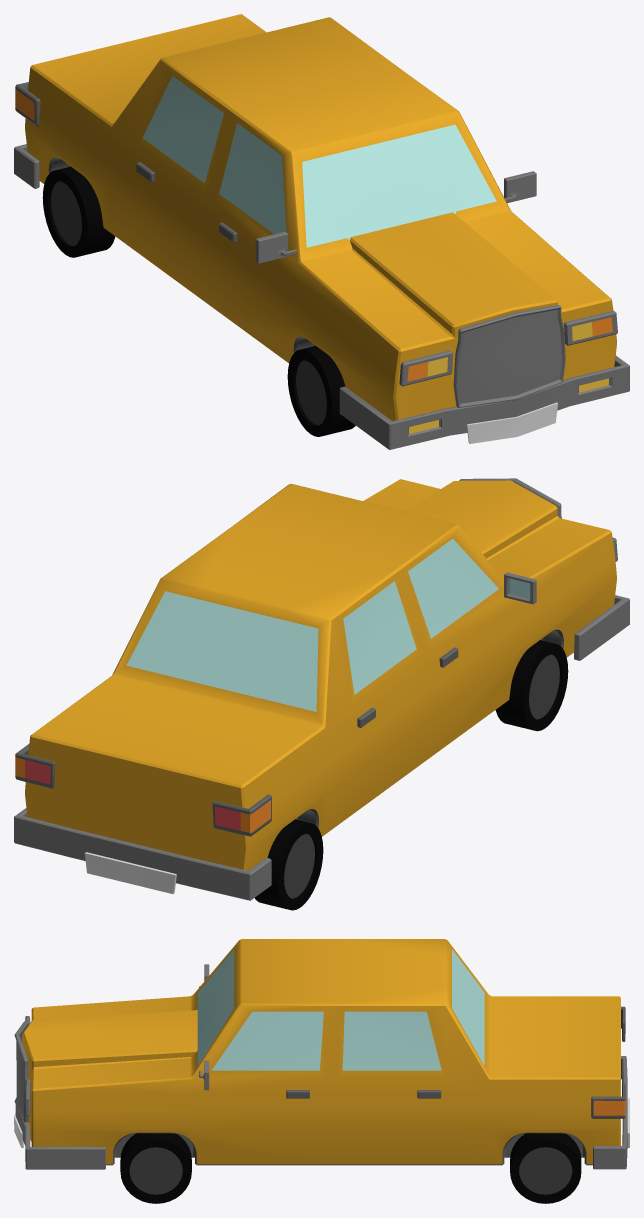
Rendered from yBart.fbx.
3 views of the same model, one above another, from view 1: azimuth 30°, elevation 25°; view 2: azimuth 150°, elevation 25°; view 3: azimuth 270°, elevation 25° (orthographic). The views are drawn at different scales.
Visible parts, largest first — view 1: yellowranger; view 2: yellowranger; view 3: yellowranger.
Part boxes in pixels (x1,y1,x2,y2): yellowranger: [14, 14, 629, 449]; yellowranger: [14, 478, 629, 910]; yellowranger: [14, 939, 629, 1203].
Size of the model in its own units: 264 by 213 by 636.
